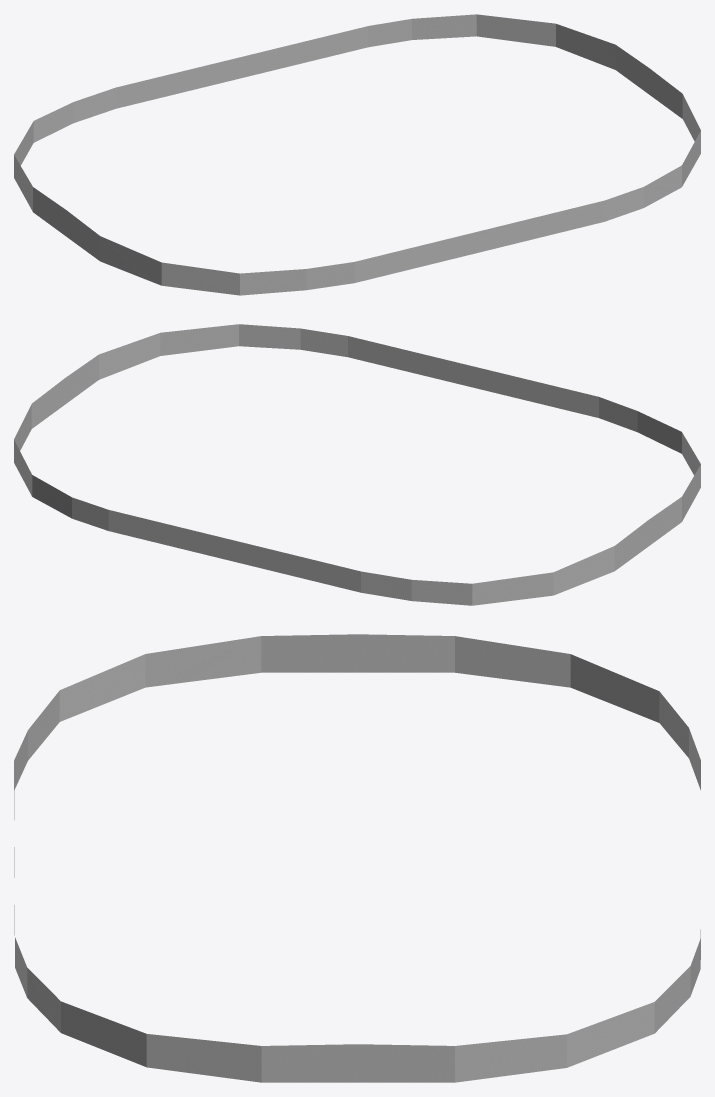
File: Wall_02_Ufa.FBX
3 renders of one model, top to bottom at view 1: azimuth 30°, elevation 25°; view 2: azimuth 150°, elevation 25°; view 3: azimuth 270°, elevation 25°, orthographic. The views are drawn at different scales.
Visible parts, largest first — view 1: Wall_02_Ufa; view 2: Wall_02_Ufa; view 3: Wall_02_Ufa.
Boxes of the visible parts, x1,y1,x2,y2 form: Wall_02_Ufa: (14, 14, 700, 295); Wall_02_Ufa: (14, 324, 700, 605); Wall_02_Ufa: (14, 634, 700, 1082).
Size of the model in its own units: 103 by 4.5 by 72.7.
Materials: 1 (1 with a texture image).
